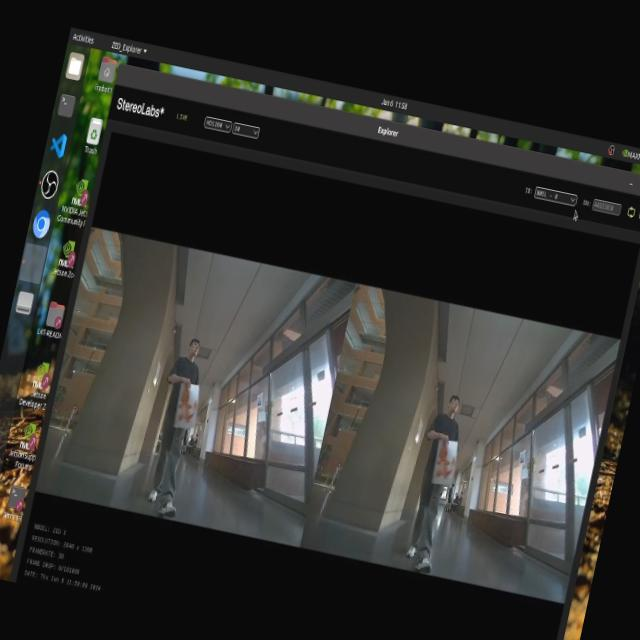red: (426, 436, 466, 491), (171, 381, 205, 431)
